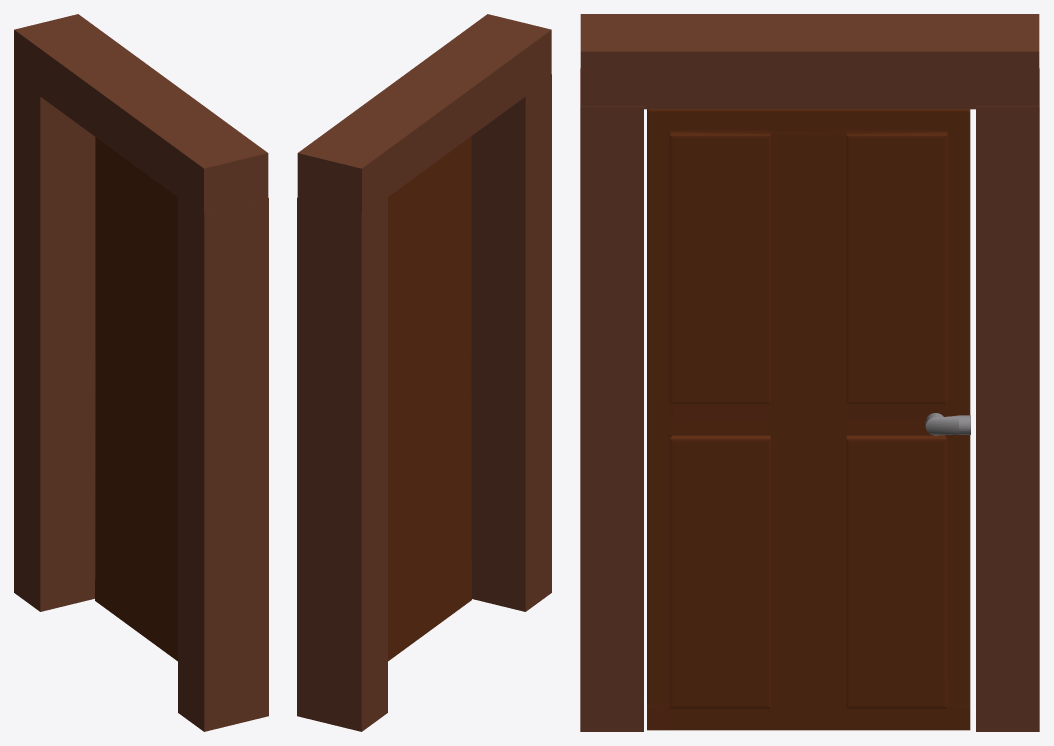
Rendered from realistic_door.glb.
3 views of the same model, side by side, from view 1: azimuth 30°, elevation 25°; view 2: azimuth 150°, elevation 25°; view 3: azimuth 270°, elevation 25° (orthographic). The views are drawn at different scales.
Visible parts, largest first — view 1: chukattu, bagilu; view 2: chukattu, bagilu; view 3: chukattu, bagilu, bagila chuka, handal.
Boxes of the visible parts, box(x1,y1,x2,y2) form: chukattu: box(14, 14, 268, 731); bagilu: box(95, 137, 177, 661); chukattu: box(297, 14, 551, 731); bagilu: box(388, 136, 471, 661); chukattu: box(580, 14, 1039, 731); bagilu: box(647, 109, 970, 730); bagila chuka: box(670, 132, 946, 704); handal: box(925, 413, 970, 435).
Size of the model in its own units: 0.6557 by 4.74 by 2.9.
